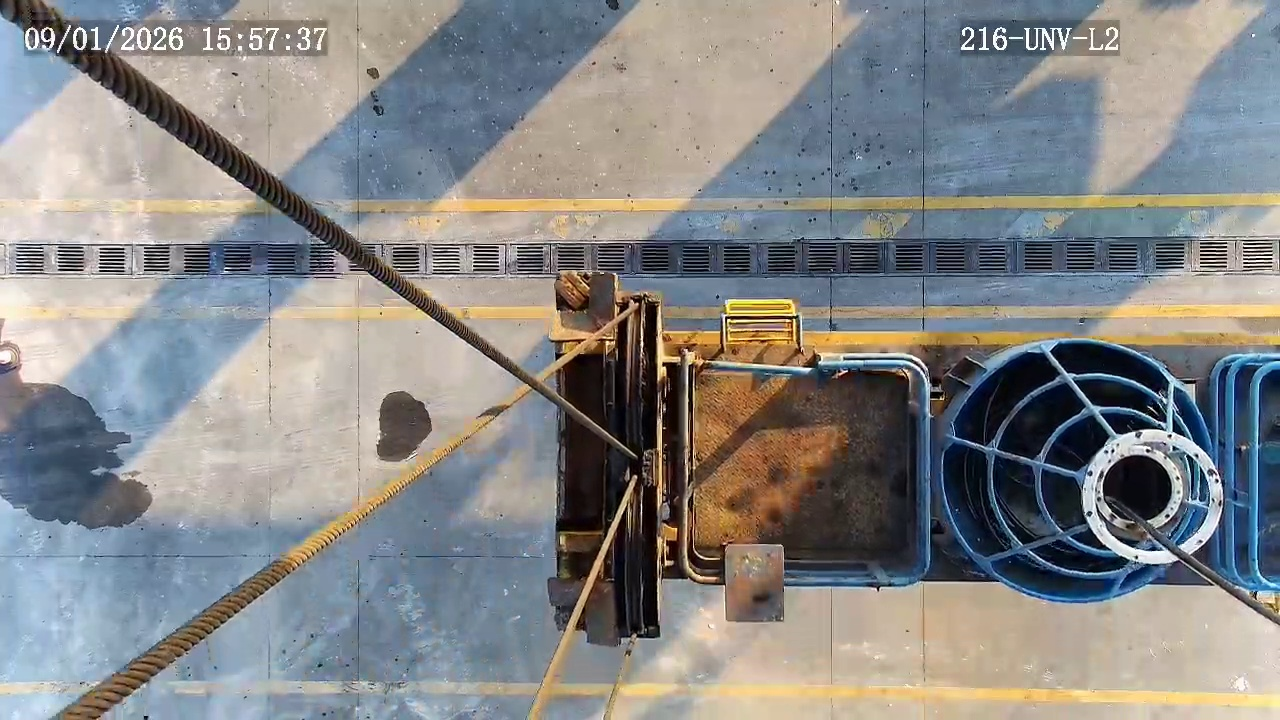left: (941, 338, 1216, 601)
